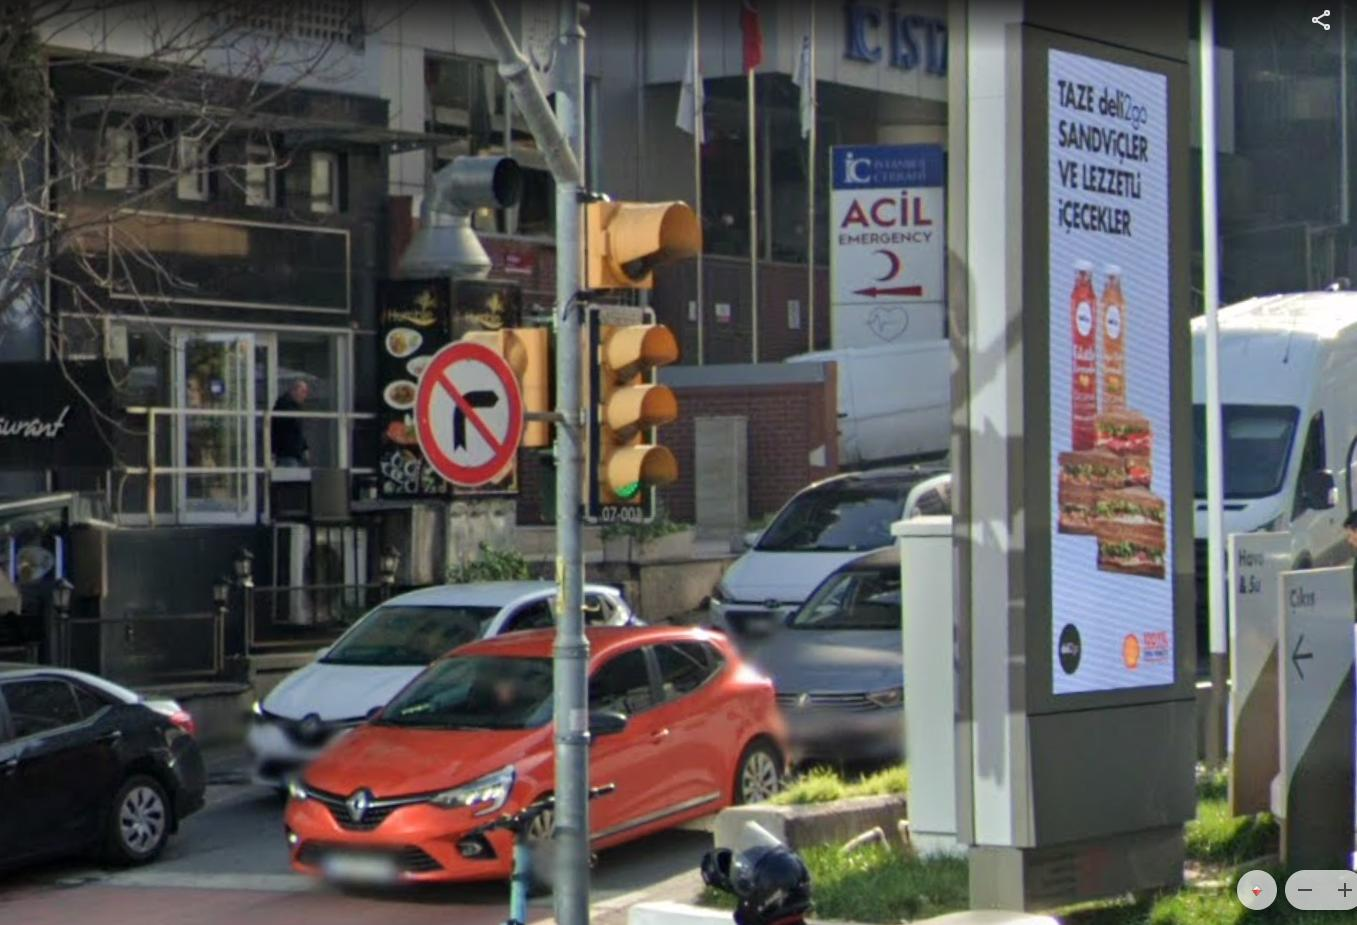rightturnsareforbidden: (419, 346, 515, 474)
